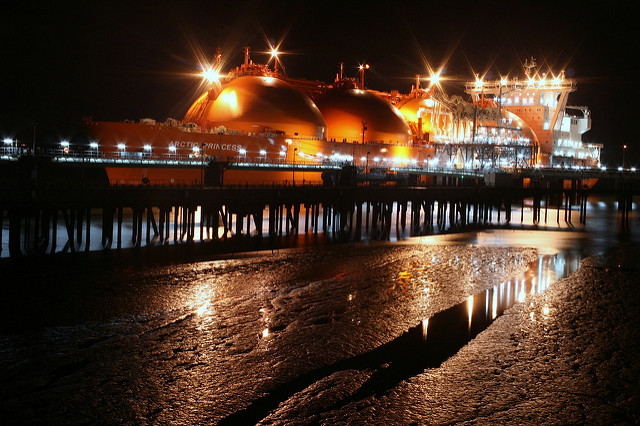LNG_ship: (92, 43, 606, 163)
